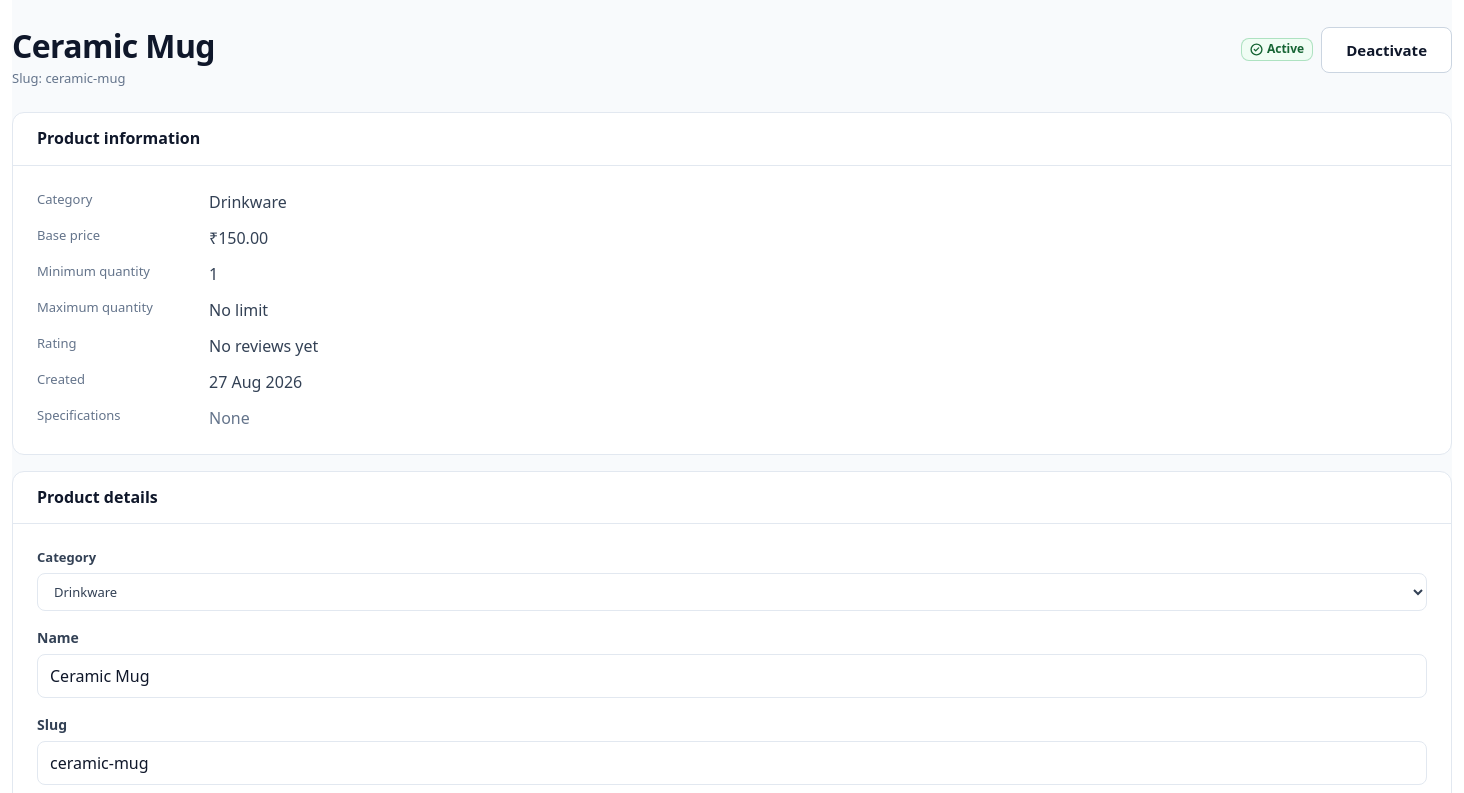
Test: AdminProductDetailPage › edit mode via router state: pre-fills the form and PATCHes on save
Check: the heading "Ceramic Mug" is shown, box [12, 26, 215, 65]
Replace the text in the field labelled "Name" with "Ceramic Mug (Large Batch)" at (732, 676), box [37, 654, 1427, 698]
(page scrolled)
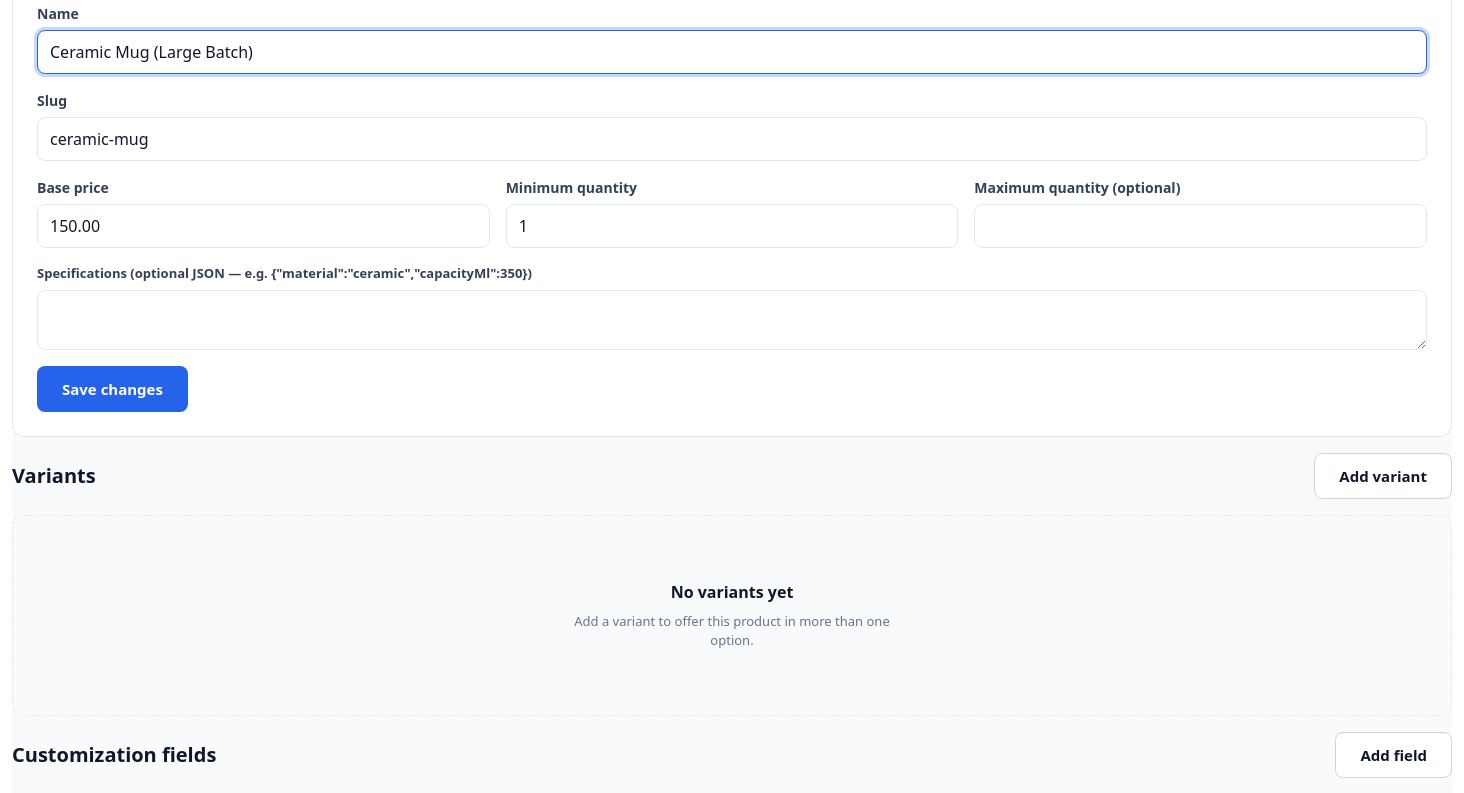
Click the button "Save changes".
click(112, 389)  # box [37, 366, 188, 412]
(page scrolled)
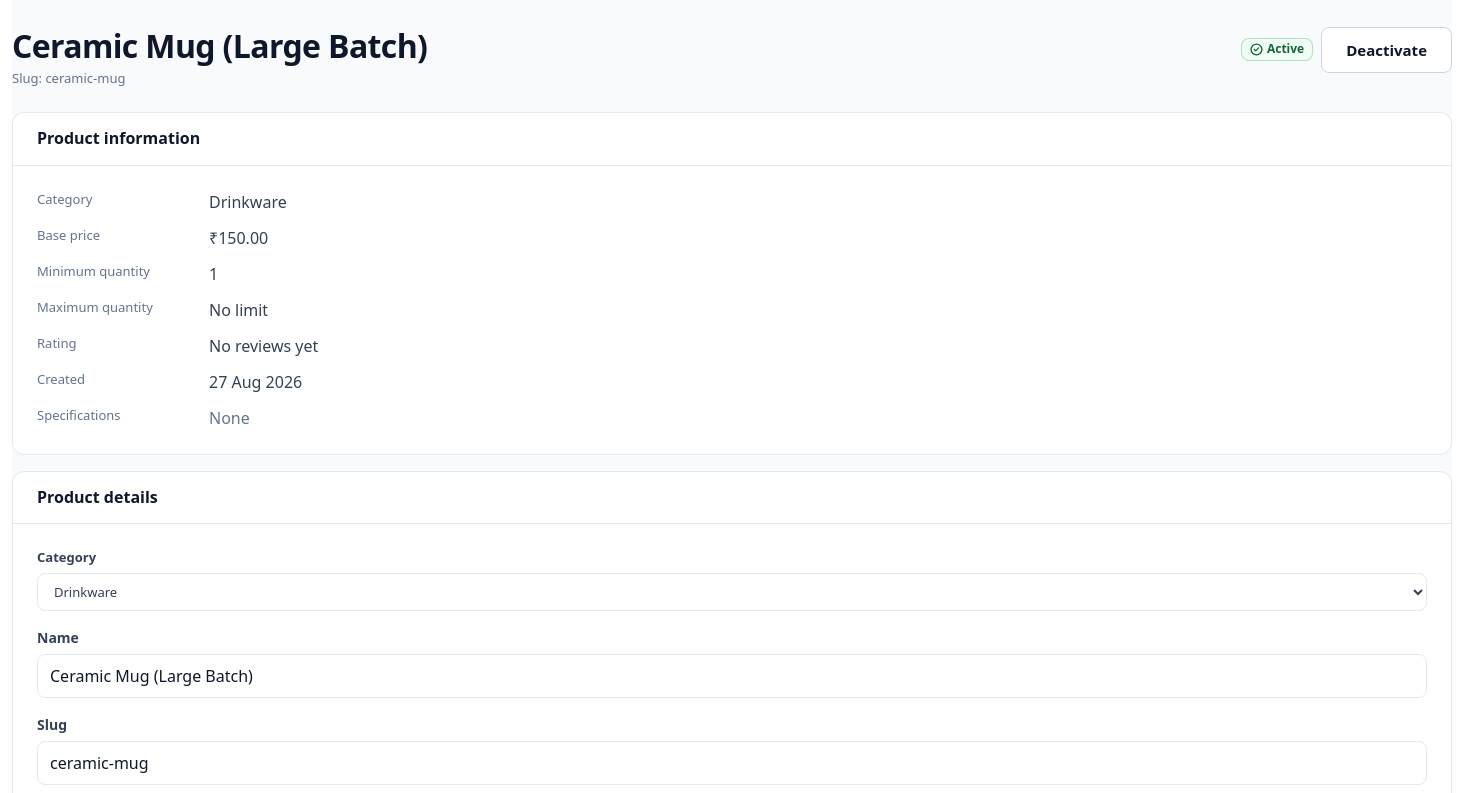
Check: the heading "Ceramic Mug (Large Batch)" is shown, box [12, 26, 427, 65]
